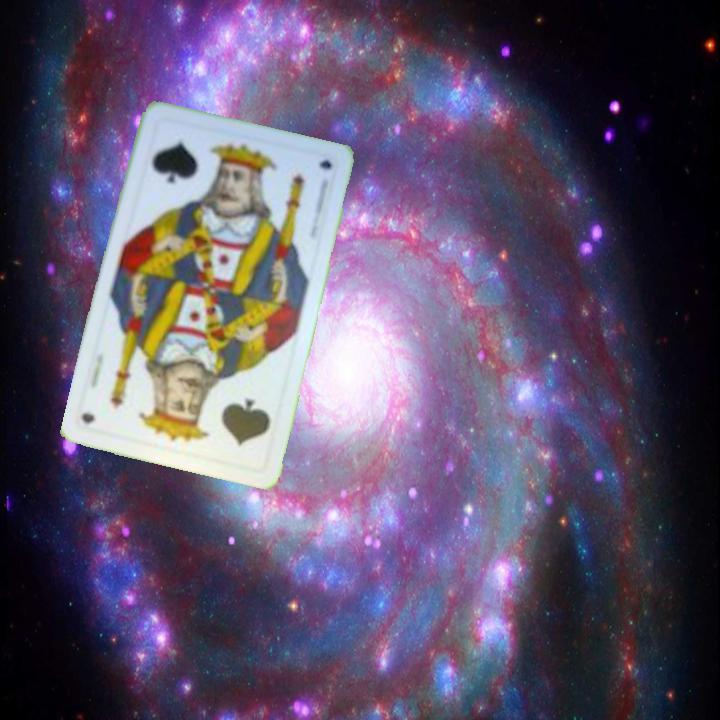s_k.png: (168, 367, 284, 473), (131, 116, 247, 221)
